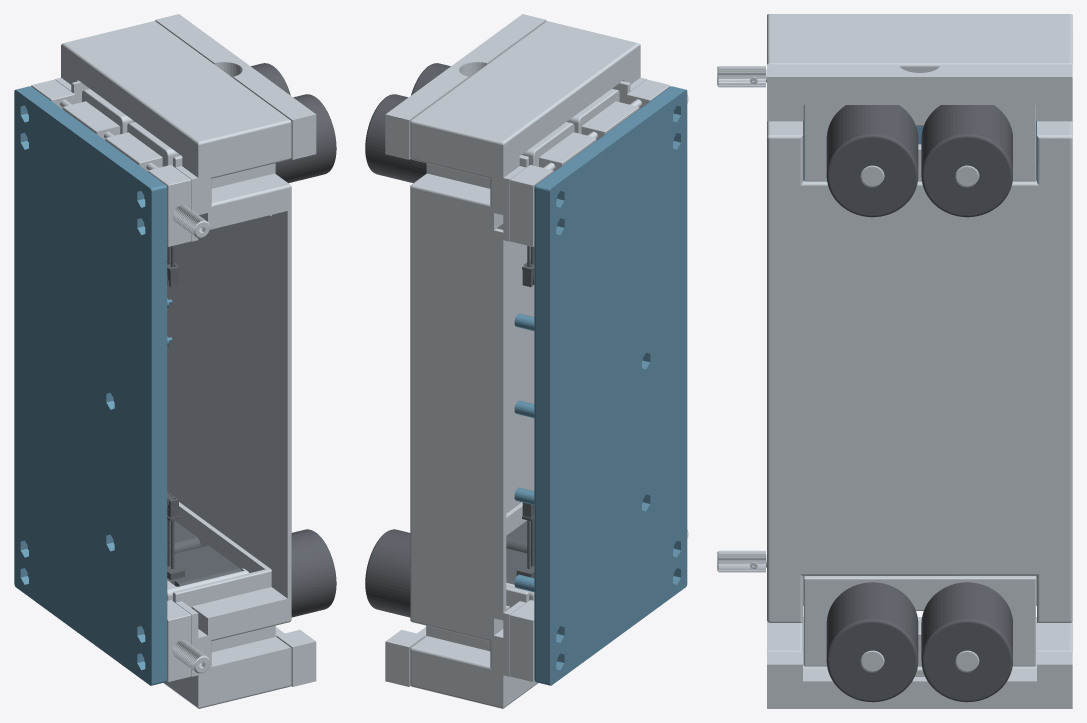
Rendered from Advancer_Assembly.glb.
The picture shows the model from 3 angles, left to right: view 1: azimuth 30°, elevation 25°; view 2: azimuth 150°, elevation 25°; view 3: azimuth 270°, elevation 25°; orthographic projection. The views are drawn at different scales.
Visible parts, largest first — view 1: whole_base-1, cover-1, translational_stage_DK25-20-3, catheter_holder-1, roller_cover-1, friction_wheel-1, motor_28HS28-3, friction_wheel-5, translational_stage_DK25-20-1, catheter_holder-3, roller_cover-2, Mirrormotor_translation_connnector-4 (+2 smaller); view 2: whole_base-1, cover-1, translational_stage_DK25-20-3, roller_cover-1, friction_wheel-2, friction_wheel-6, catheter_holder-1, translational_stage_DK25-20-1, catheter_holder-3, roller_cover-2, motor_28HS28-2, motor_translation_connnector-3 (+2 smaller); view 3: cover-1, roller_cover-1, roller_cover-2, friction_wheel-1, friction_wheel-2, friction_wheel-5, friction_wheel-6, catheter_holder-1, catheter_holder-3, translational_stage_DK25-20-1, translational_stage_DK25-20-3.
Boxes of the visible parts, x1,y1,x2,y2 form: whole_base-1: [14, 86, 172, 685]; cover-1: [61, 21, 291, 708]; translational_stage_DK25-20-3: [31, 79, 209, 246]; catheter_holder-1: [173, 502, 275, 676]; roller_cover-1: [155, 14, 316, 159]; friction_wheel-1: [291, 529, 336, 617]; motor_28HS28-3: [167, 491, 241, 586]; friction_wheel-5: [275, 94, 336, 183]; translational_stage_DK25-20-1: [167, 600, 209, 682]; catheter_holder-3: [55, 77, 275, 241]; roller_cover-2: [275, 627, 316, 686]; Mirrormotor_translation_connnector-4: [127, 122, 180, 166]; whole_base-1: [514, 86, 687, 685]; cover-1: [410, 21, 640, 708]; translational_stage_DK25-20-3: [510, 79, 688, 246]; roller_cover-1: [385, 14, 546, 159]; friction_wheel-2: [365, 529, 410, 617]; friction_wheel-6: [365, 94, 426, 182]; catheter_holder-1: [426, 502, 528, 676]; translational_stage_DK25-20-1: [510, 530, 688, 682]; catheter_holder-3: [426, 77, 646, 241]; roller_cover-2: [385, 627, 426, 686]; motor_28HS28-2: [506, 502, 534, 584]; motor_translation_connnector-3: [522, 122, 574, 166]; cover-1: [767, 14, 1072, 676]; roller_cover-1: [767, 64, 1072, 121]; roller_cover-2: [767, 651, 1072, 708]; friction_wheel-1: [826, 582, 918, 702]; friction_wheel-2: [921, 582, 1012, 702]; friction_wheel-5: [826, 105, 918, 217]; friction_wheel-6: [921, 105, 1012, 217]; catheter_holder-1: [803, 576, 1036, 666]; catheter_holder-3: [803, 105, 1036, 181]; translational_stage_DK25-20-1: [717, 550, 766, 572]; translational_stage_DK25-20-3: [717, 66, 766, 87].
Size of the model in its own units: 0.0895 by 0.228 by 0.1163.
